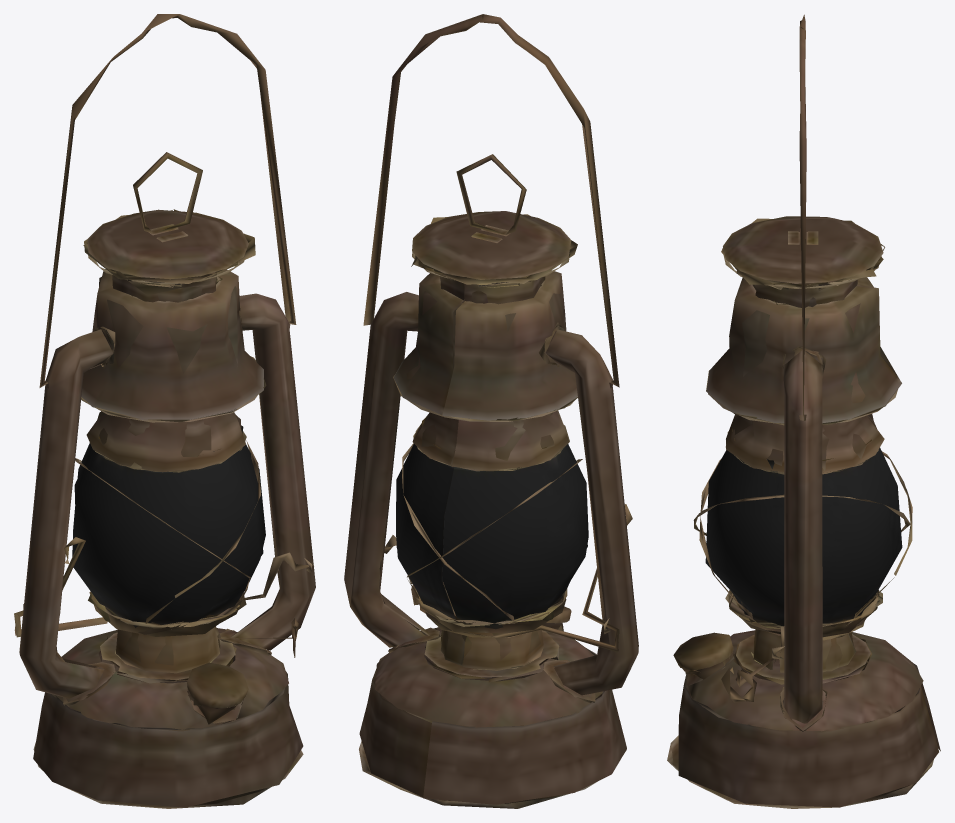
The model's file is Lantern_01.gltf.
3 views of the same model, side by side, from view 1: azimuth 30°, elevation 25°; view 2: azimuth 150°, elevation 25°; view 3: azimuth 270°, elevation 25° (orthographic).
Parts seen in each view (by area): view 1: Lantern_01; view 2: Lantern_01; view 3: Lantern_01.
Part boxes in pixels (<box>): Lantern_01: <box>14,14,315,808</box>; Lantern_01: <box>344,14,638,808</box>; Lantern_01: <box>667,14,940,808</box>.
Size of the model in its own units: 0.1224 by 0.2941 by 0.0989.
2 materials, 2 textured.
